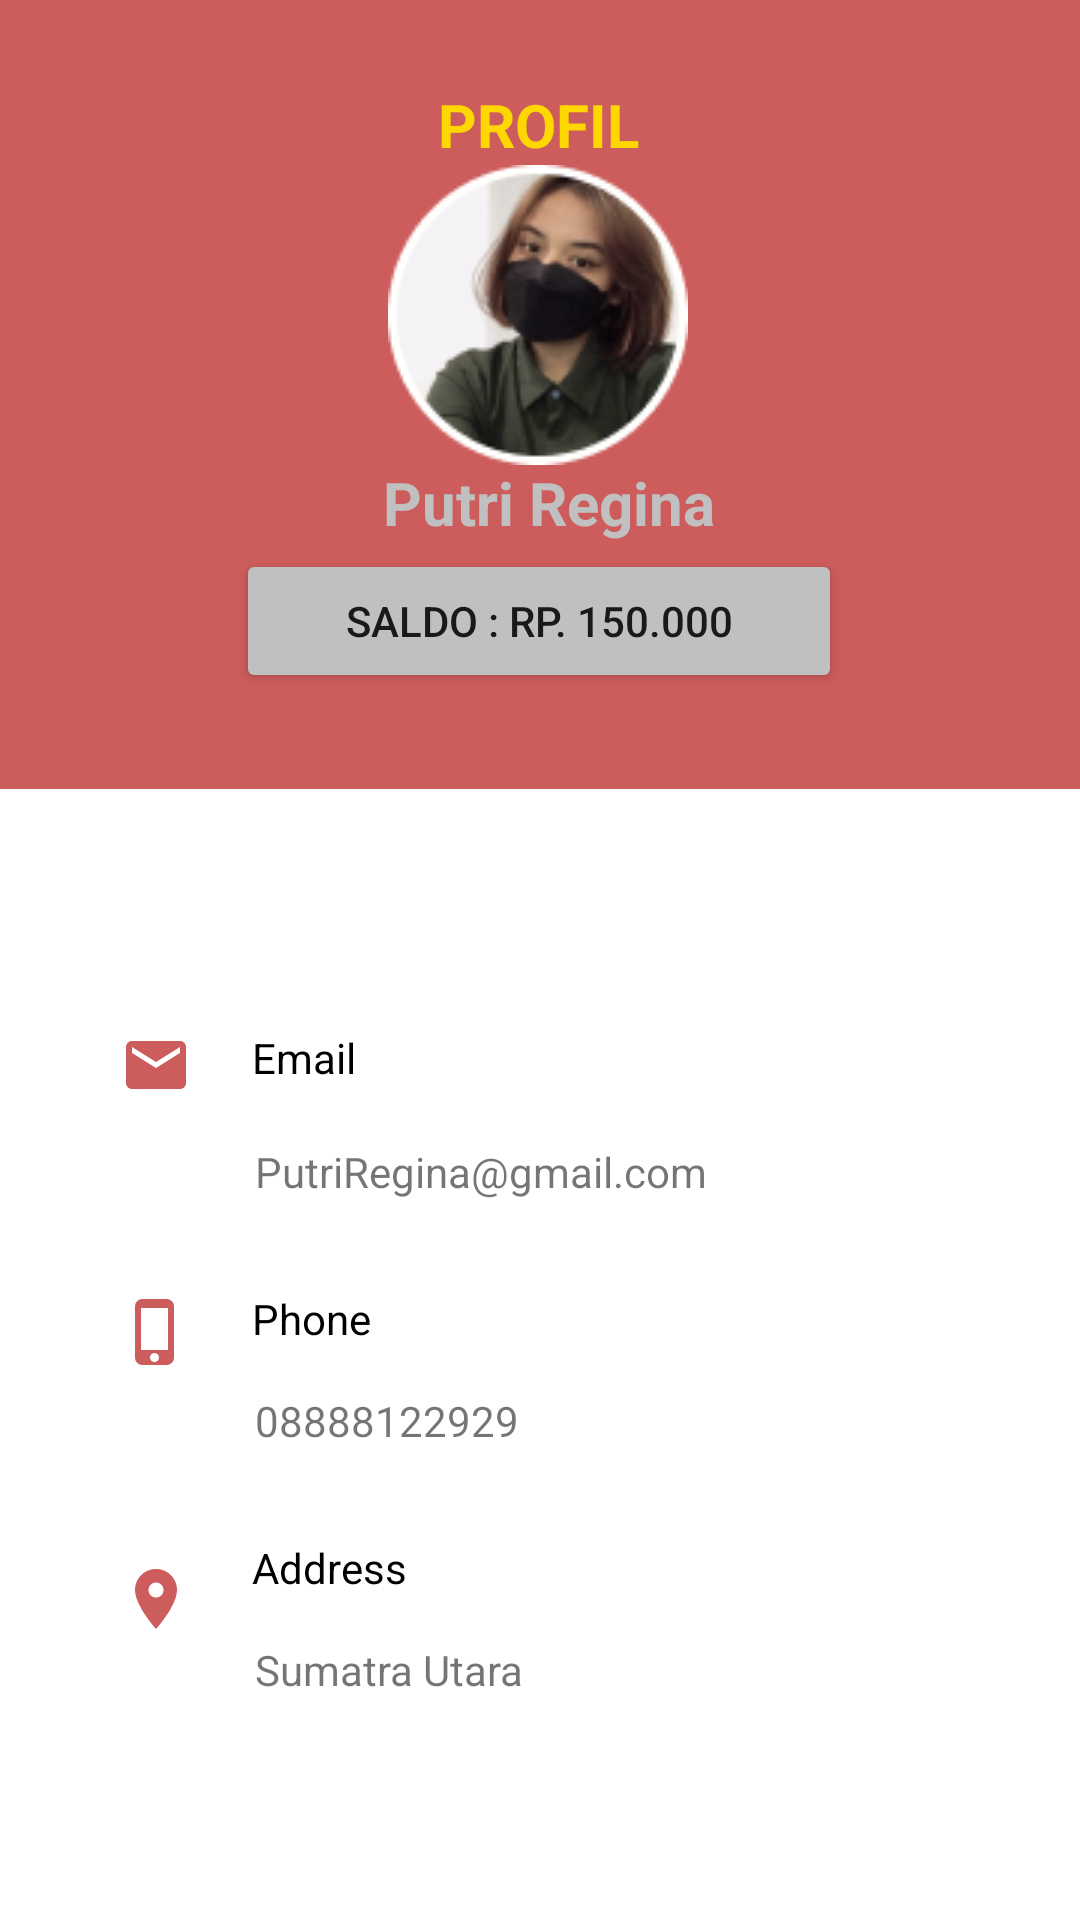

Named icons in this screenshot (1080×1920) and their bounding boxes, (x1, y1, x2, y2):
location on: (135, 1569, 177, 1629)
